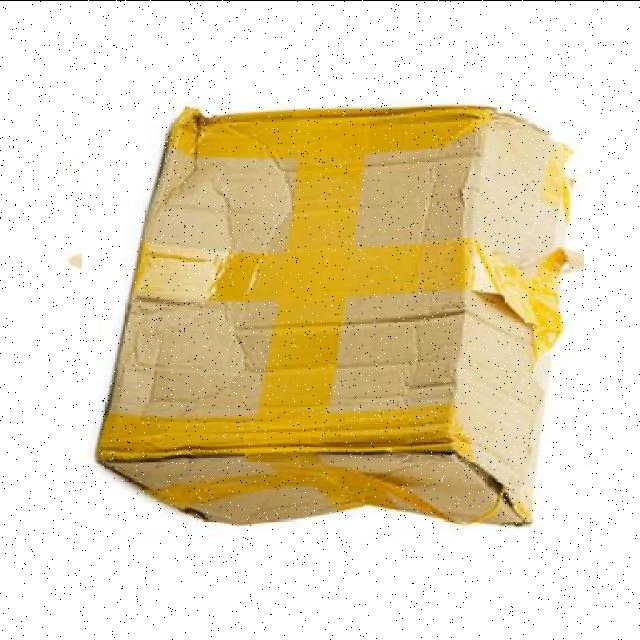normal: (82, 91, 584, 532)
